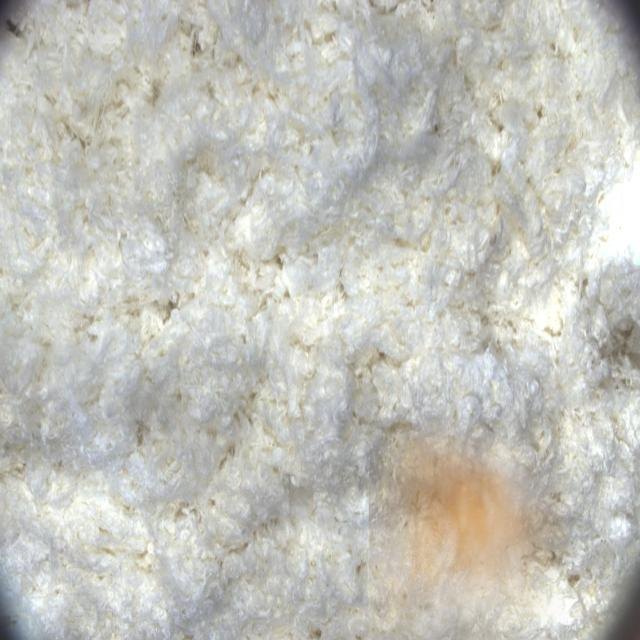dust: (369, 417, 566, 640)
